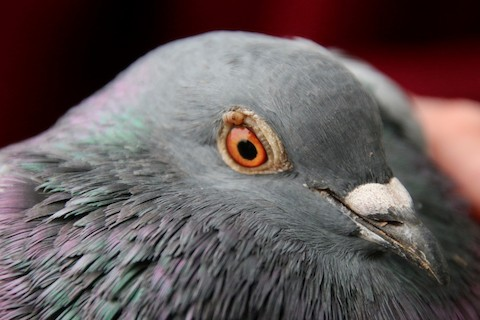pigeon: (11, 22, 456, 314)
